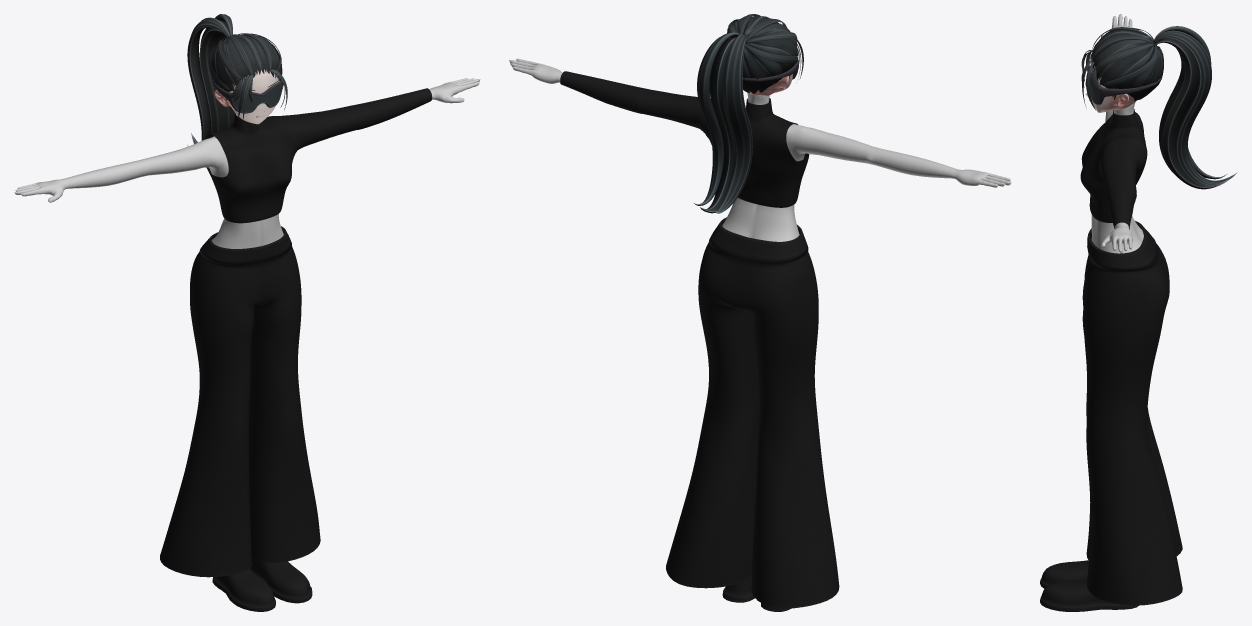
The model's file is Pai_final.fbx.
3 views of the same model, side by side, from view 1: azimuth 30°, elevation 25°; view 2: azimuth 150°, elevation 25°; view 3: azimuth 270°, elevation 25° (orthographic). The views are drawn at different scales.
Visible parts, largest first — view 1: Pai_final; view 2: Pai_final; view 3: Pai_final.
Part boxes in pixels (left/top/right/bottom): Pai_final: left=14, top=14, right=480, bottom=611; Pai_final: left=509, top=14, right=1011, bottom=611; Pai_final: left=1040, top=14, right=1237, bottom=611.
Size of the model in its own units: 107 by 119 by 37.85.
